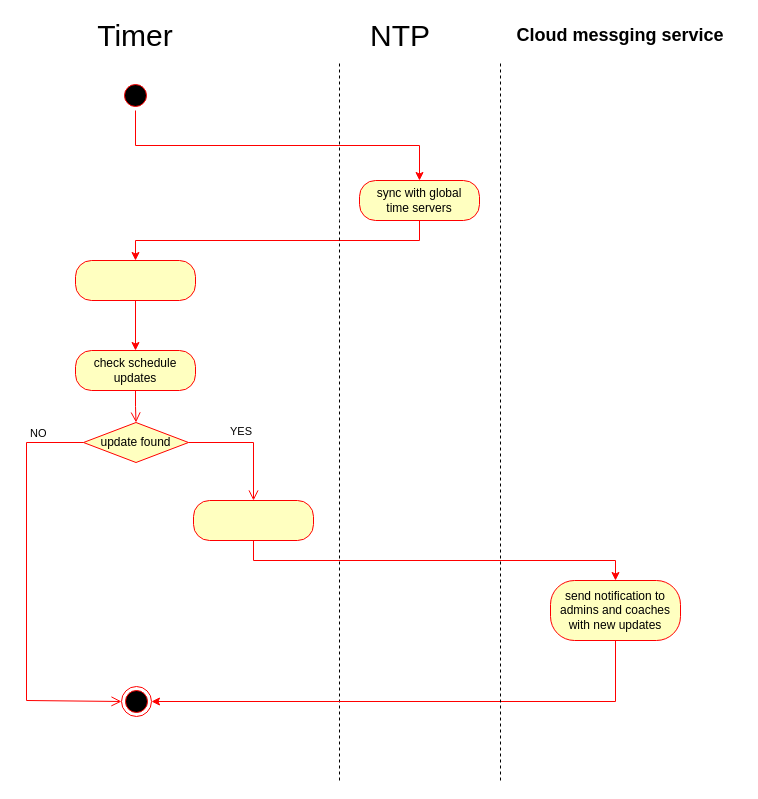
Image size: 758x799. Some labels were removed from this diagram. Here are the shapes that lost their labels. From the top down, the centre of each, then its label:
At point (135, 280): "fetch the last sessions schedule".
At point (253, 520): "apply new sessions schedule".
